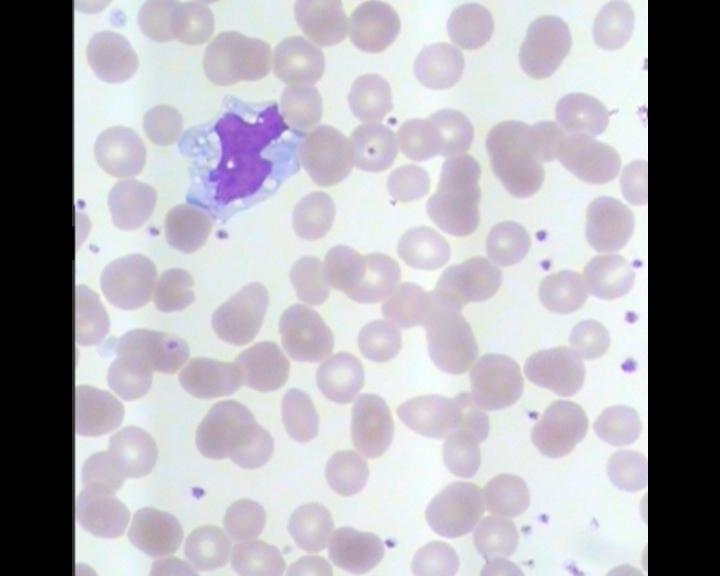mono: (179, 92, 310, 226)
